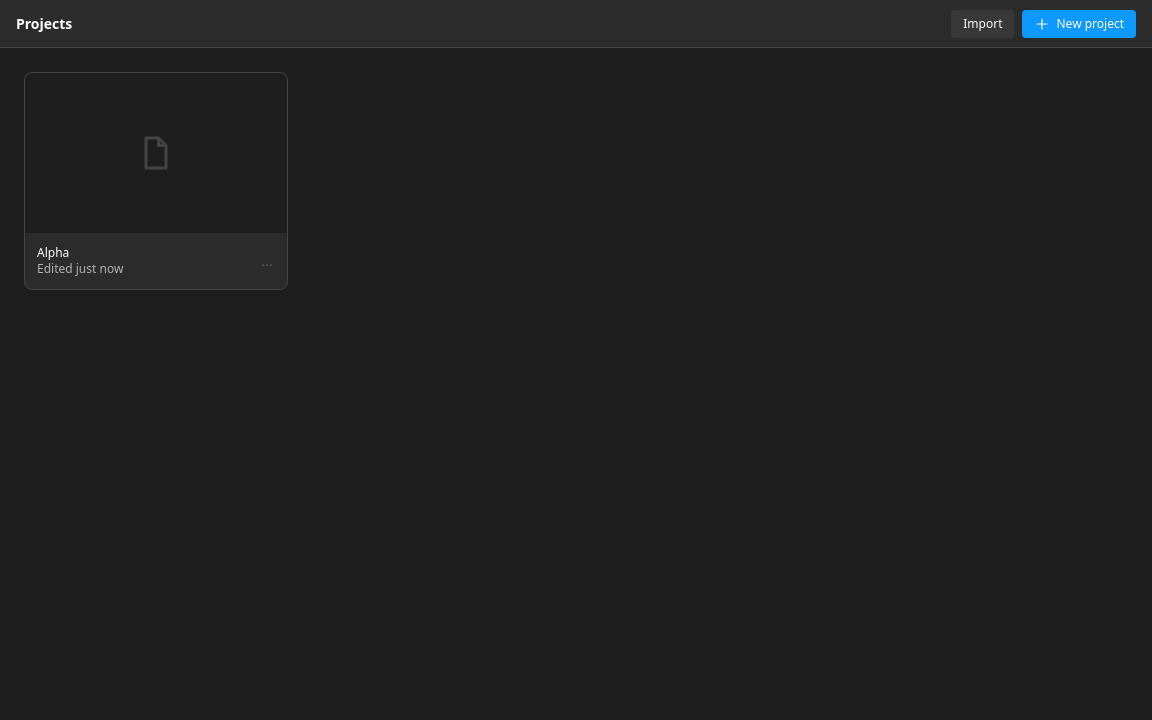
Test: Editor: a failed save is shown, and leaving asks instead of dropping the changes
Click the button with aria-label "Open Alpha" at (156, 181), box [25,73,287,289]
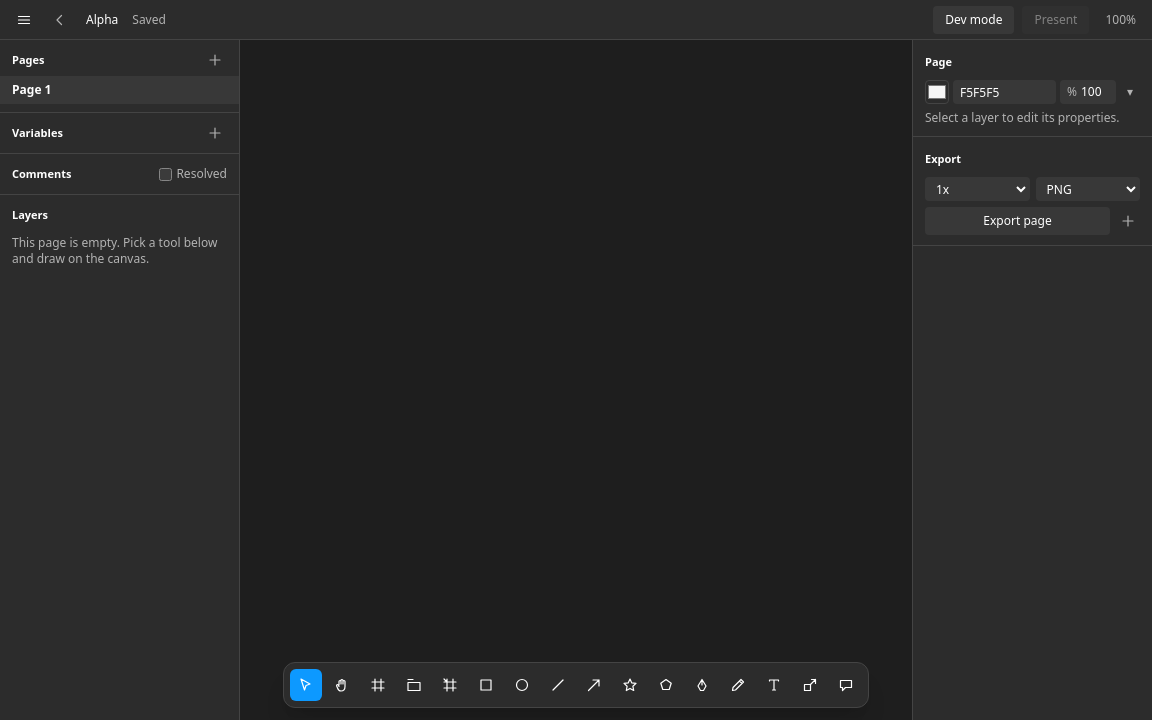
Type keys "r"
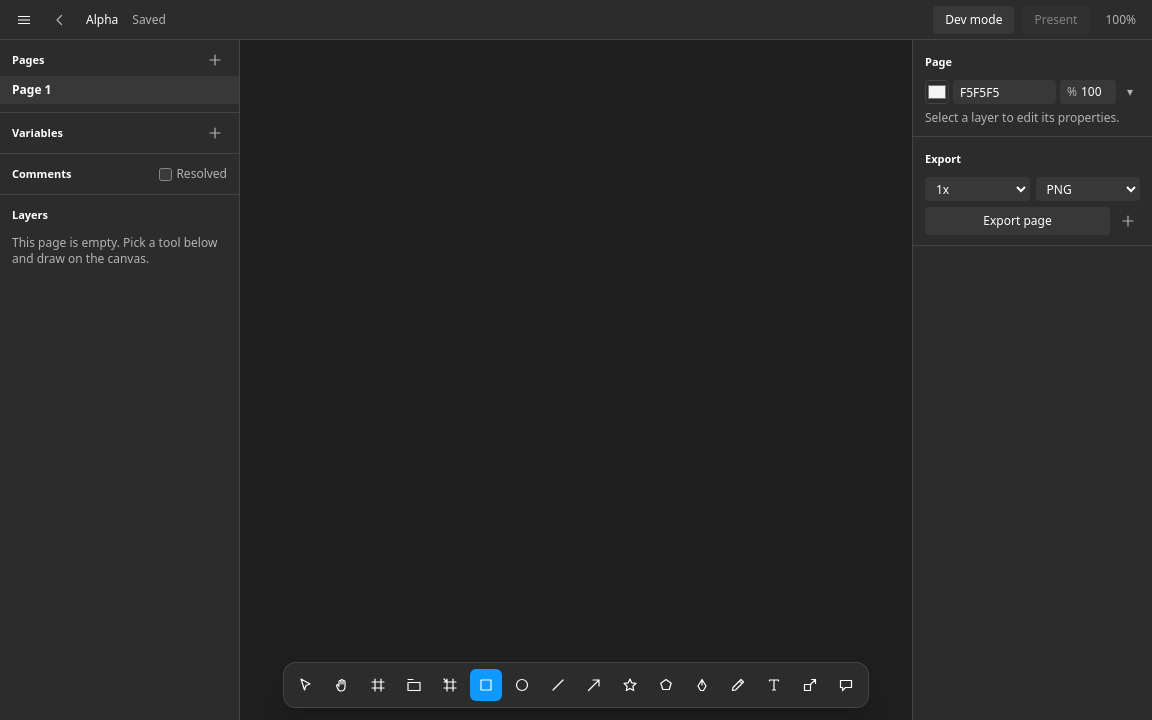
Press the mouse on the drawing named "Canvas" at (576, 380), box [240,40,912,719]
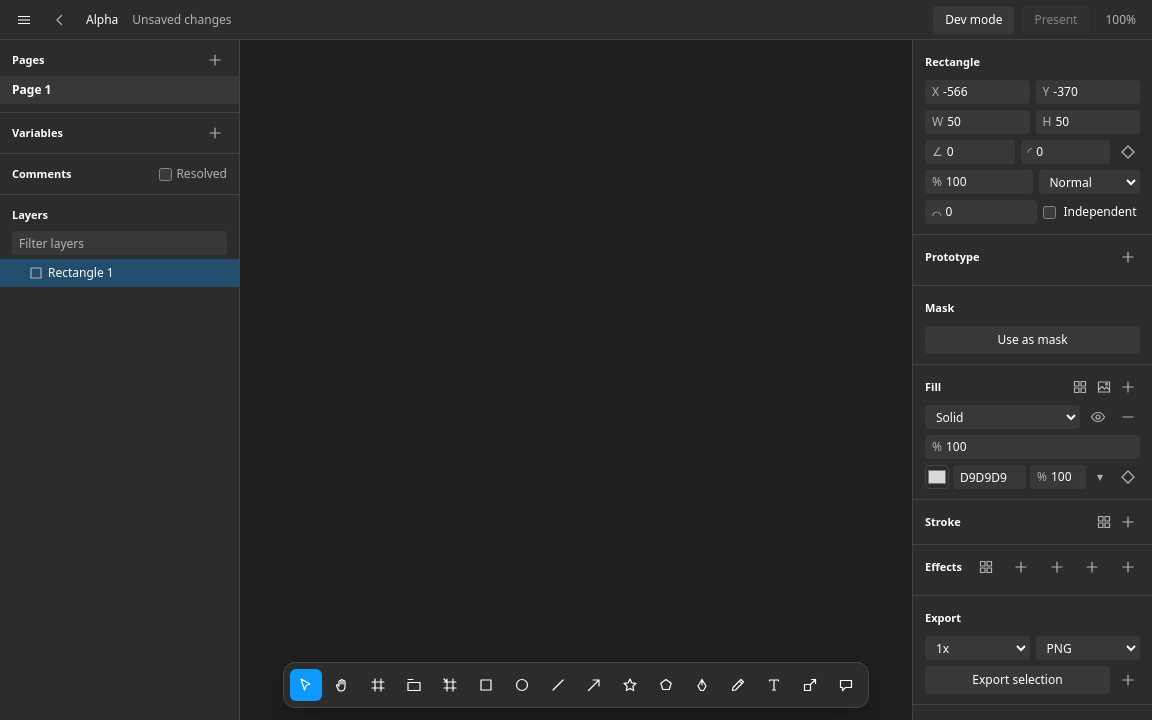
Click the button named "Back to projects" at (60, 20), box [48,8,72,32]
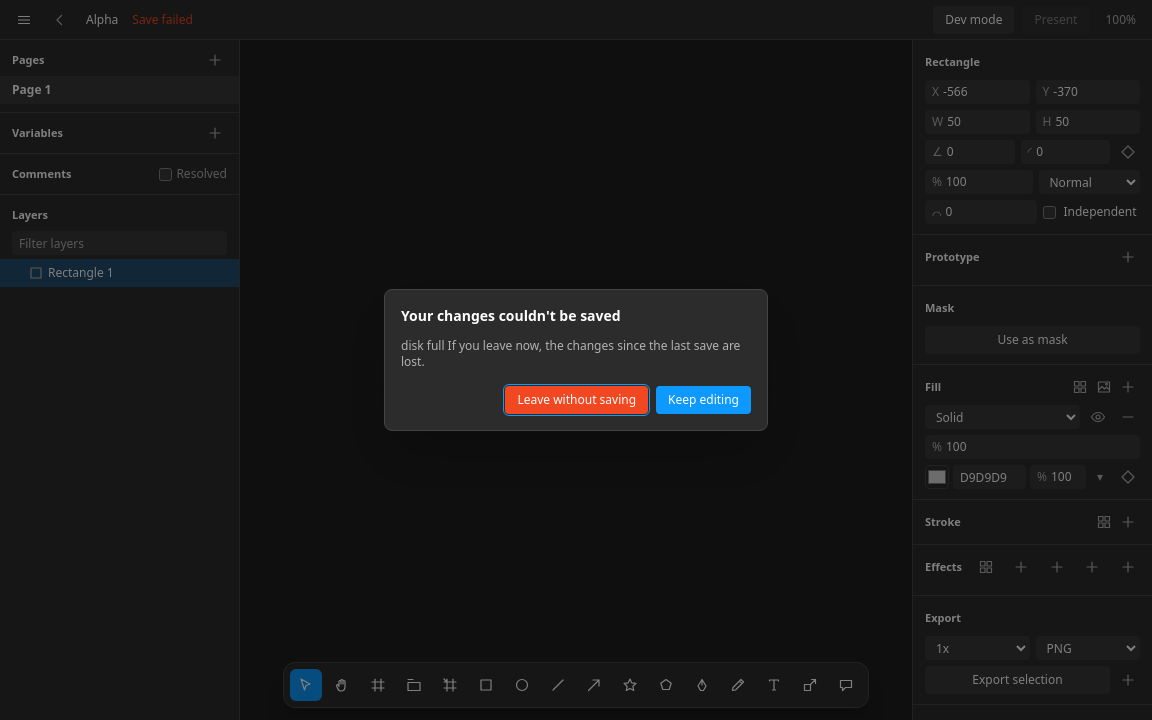
Expected: the dialog "Your changes couldn't be saved" shows "disk full", [401,337,444,354]
Expected: the message reads "Save failed", [132,10,193,28]
Click the button "Keep editing" at (704, 400), box [656,386,751,414]
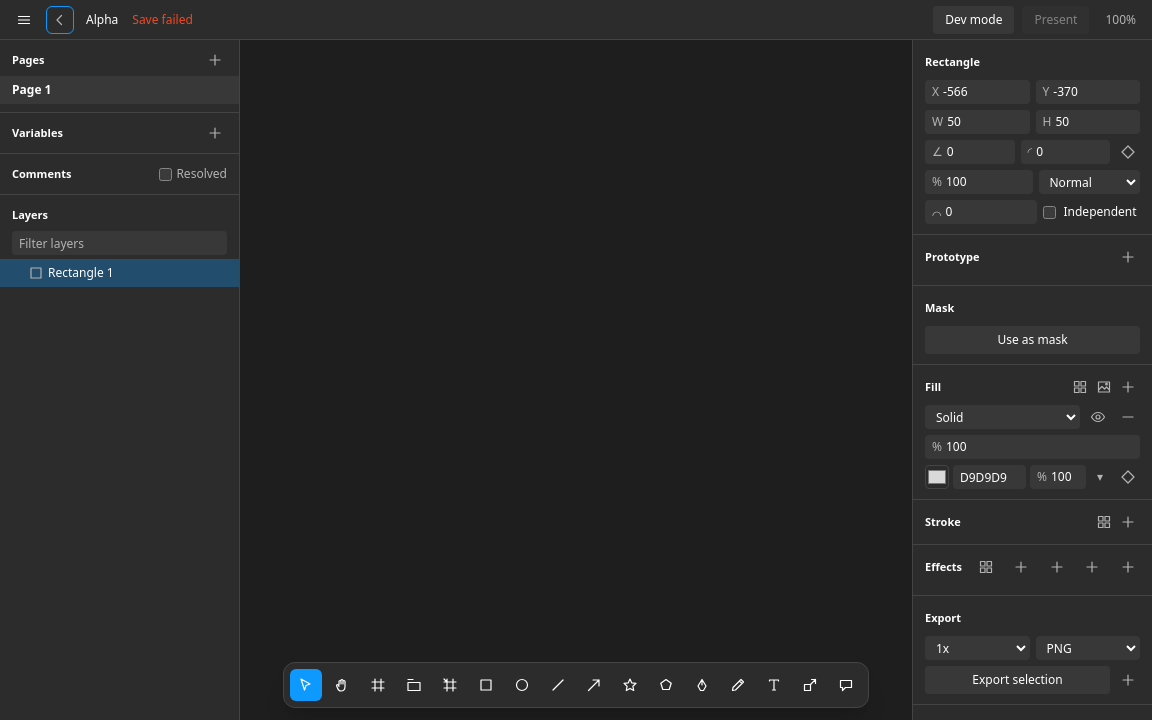
Expected: the drawing named "Canvas" is shown, [240,40,912,719]
Click the button named "Back to projects" at (60, 20), box [48,8,72,32]
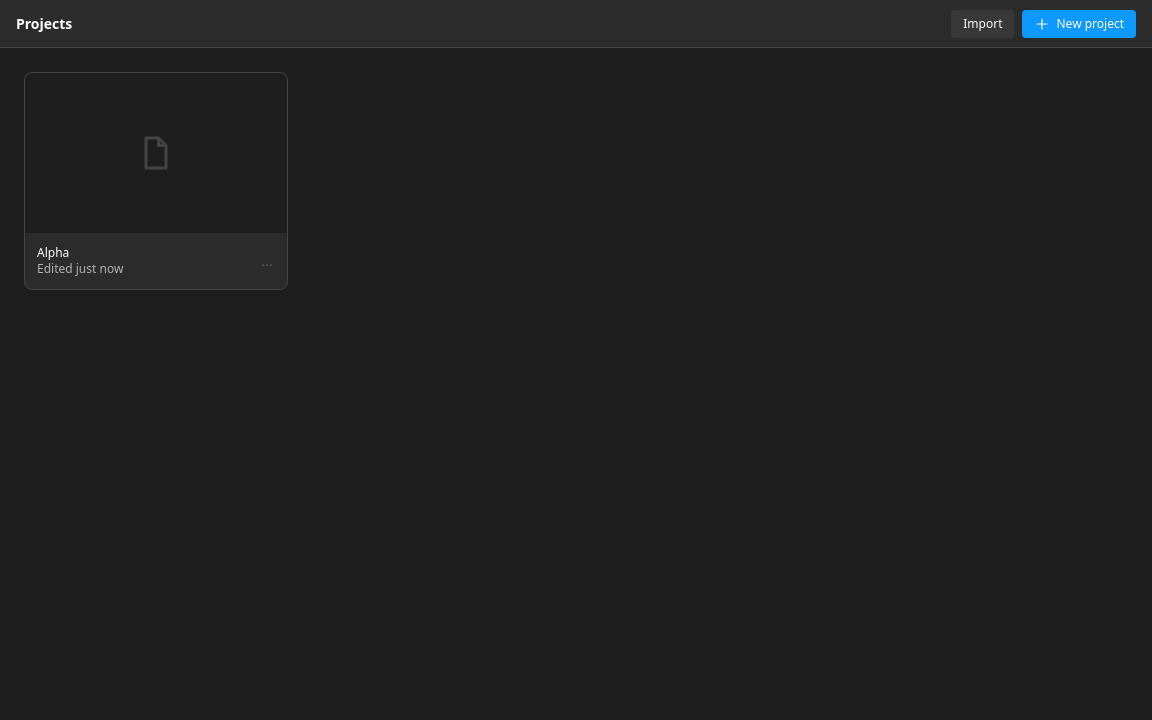
Expected: the button with aria-label "Open Alpha" is shown, [25,73,287,289]
